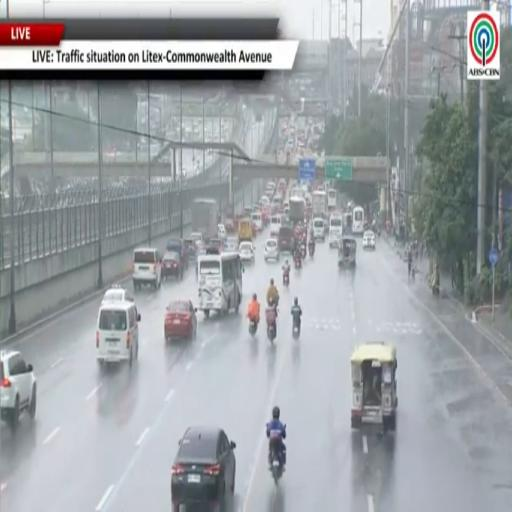bus: (198, 253, 242, 317), (352, 206, 364, 234), (327, 188, 336, 211)
car: (171, 426, 236, 511), (0, 350, 36, 431), (165, 299, 197, 341), (133, 248, 161, 290), (166, 238, 188, 268), (162, 251, 184, 279), (102, 284, 134, 303), (238, 241, 254, 264), (264, 238, 279, 261), (184, 239, 197, 261), (207, 238, 223, 252), (363, 231, 375, 249), (224, 237, 238, 251), (190, 232, 203, 247), (218, 224, 226, 239)
jeepney: (351, 343, 398, 431), (339, 237, 356, 268), (237, 218, 253, 242)
motorcycle: (270, 437, 284, 485), (267, 323, 275, 343), (292, 319, 300, 339), (249, 320, 257, 335), (432, 284, 439, 298), (308, 244, 315, 258), (283, 270, 289, 286), (300, 244, 306, 259), (411, 266, 416, 282), (294, 258, 301, 269)
truck: (192, 199, 218, 241), (288, 197, 305, 226), (312, 190, 327, 217)
